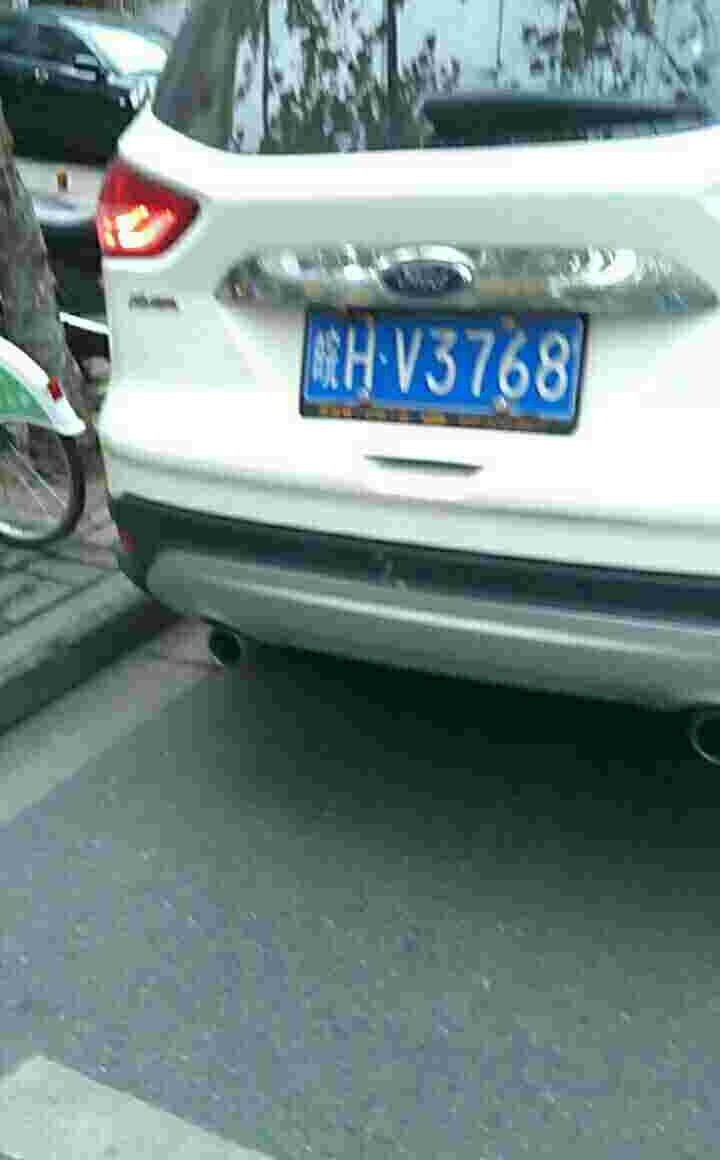license_plate: (300, 318, 583, 426)
